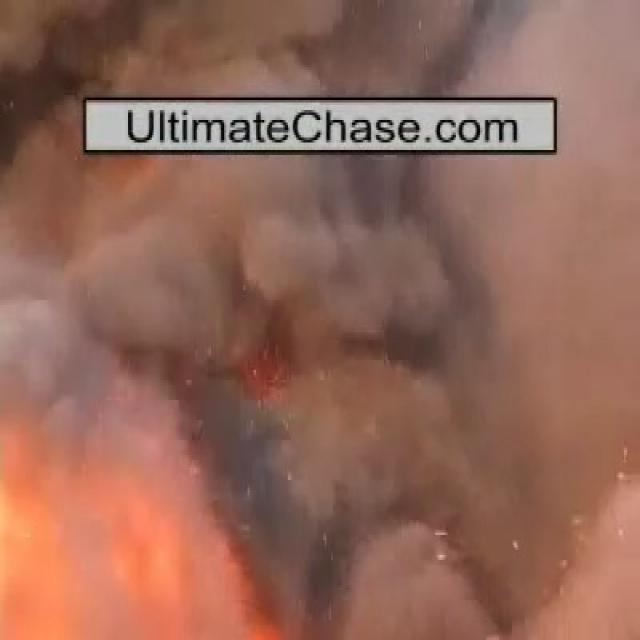smoke: (26, 169, 590, 586), (61, 5, 532, 89)
